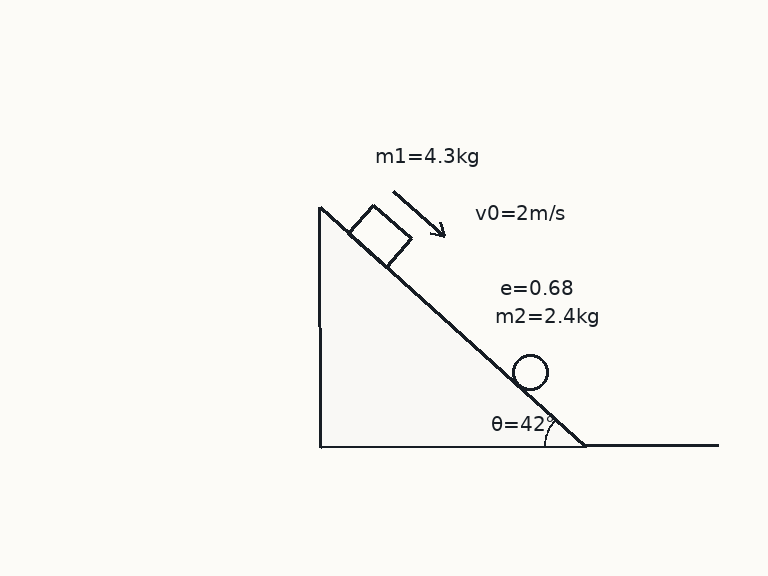ball: (510, 352, 550, 392)
block: (346, 203, 413, 269)
ramp: (318, 205, 587, 448)
